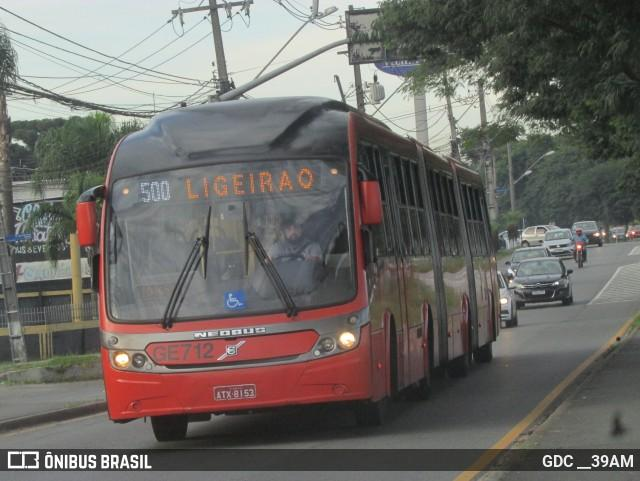LIGEIRAO: (181, 163, 317, 204)
